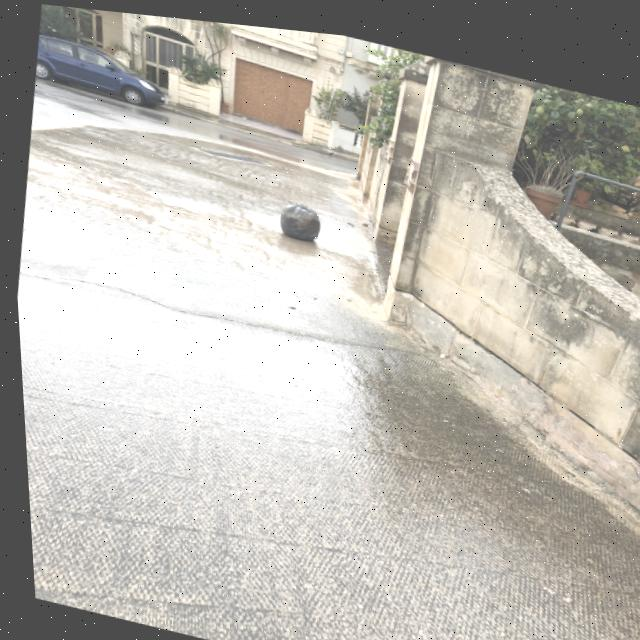Mixed Waste -Black Bag-: (275, 194, 322, 240)
